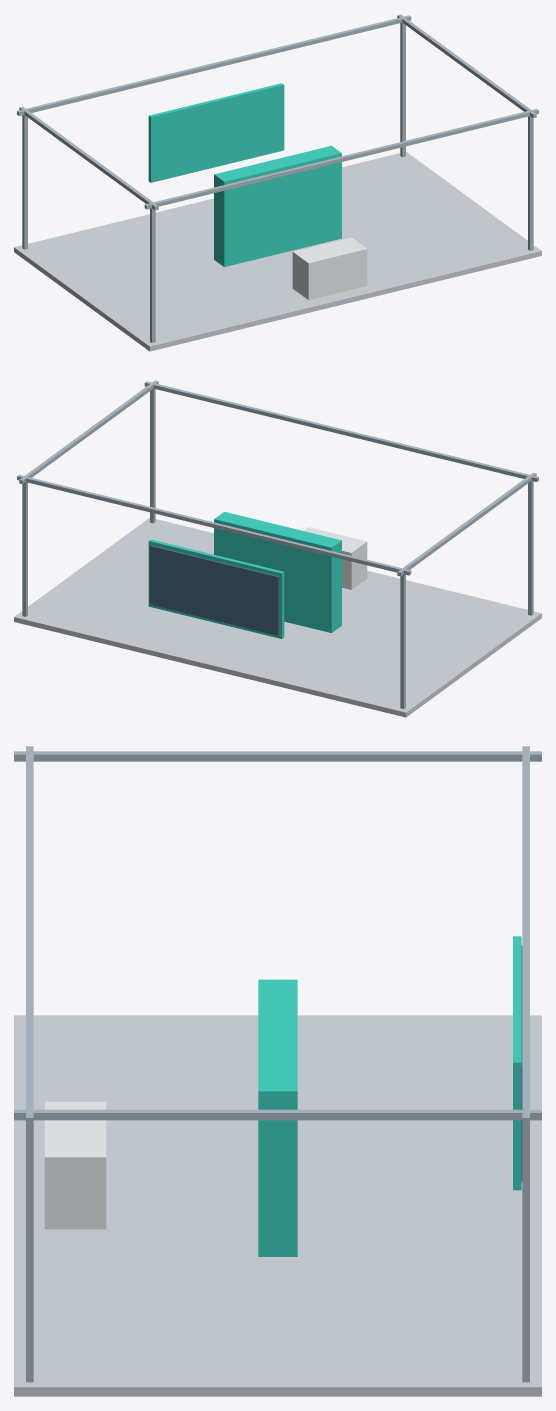
3 renders of one model, top to bottom at view 1: azimuth 30°, elevation 25°; view 2: azimuth 150°, elevation 25°; view 3: azimuth 270°, elevation 25°, orthographic. The views are drawn at different scales.
Visible parts, largest first — view 1: Exhibition Booth Concept; view 2: Exhibition Booth Concept; view 3: Exhibition Booth Concept.
Part boxes in pixels (<box>): Exhibition Booth Concept: <box>14,14,541,351</box>; Exhibition Booth Concept: <box>14,380,541,717</box>; Exhibition Booth Concept: <box>14,746,541,1396</box>.
Size of the model in its own units: 10 by 3.49 by 6.
